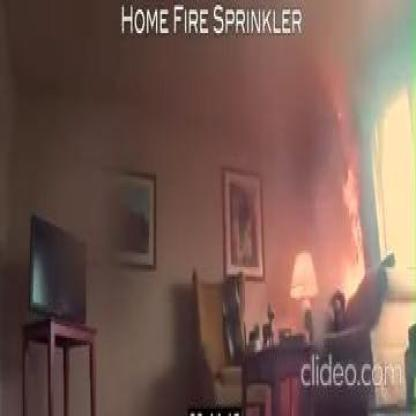fire: (327, 85, 366, 296)
